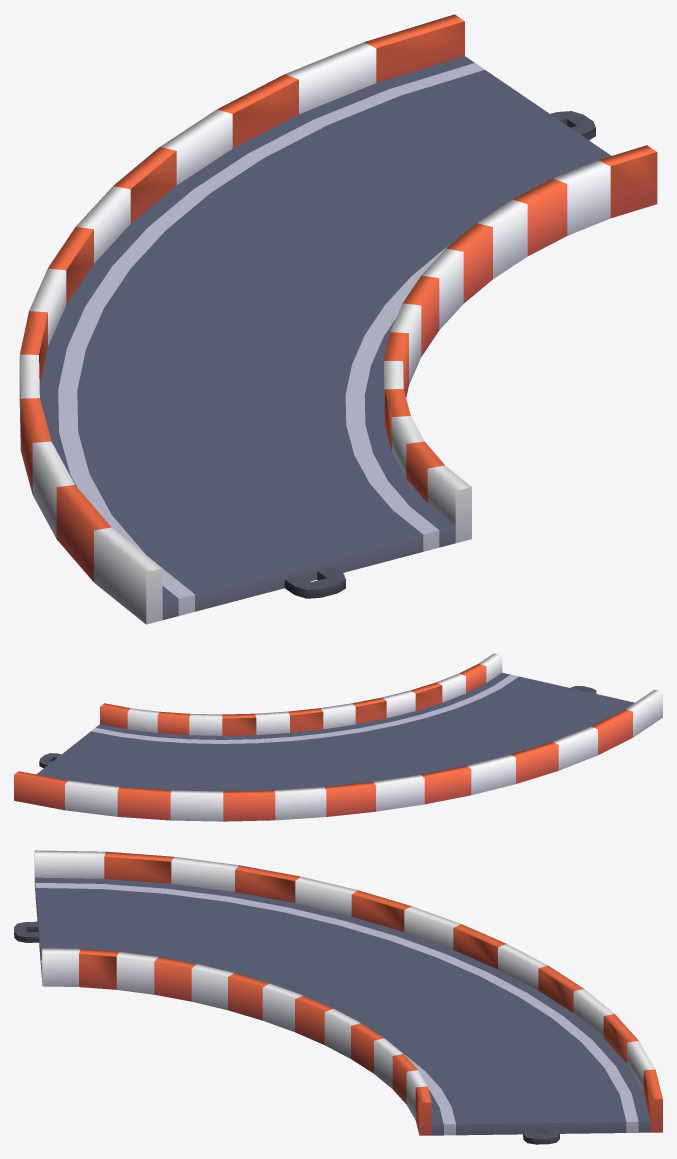
File: track-road-wide-corner-large.010_lev1.glb
The picture shows the model from 3 angles, top to bottom: view 1: azimuth 30°, elevation 25°; view 2: azimuth 150°, elevation 25°; view 3: azimuth 270°, elevation 25°; orthographic projection. The views are drawn at different scales.
Visible parts, largest first — view 1: track-road-wide-corner-large.010_lev1; view 2: track-road-wide-corner-large.010_lev1; view 3: track-road-wide-corner-large.010_lev1.
Part boxes in pixels (bbox=[...]): track-road-wide-corner-large.010_lev1: bbox=[19, 14, 657, 624]; track-road-wide-corner-large.010_lev1: bbox=[14, 653, 662, 821]; track-road-wide-corner-large.010_lev1: bbox=[14, 850, 662, 1144].
Size of the model in its own units: 5.07 by 0.3 by 5.33.
1 material, 1 textured.
